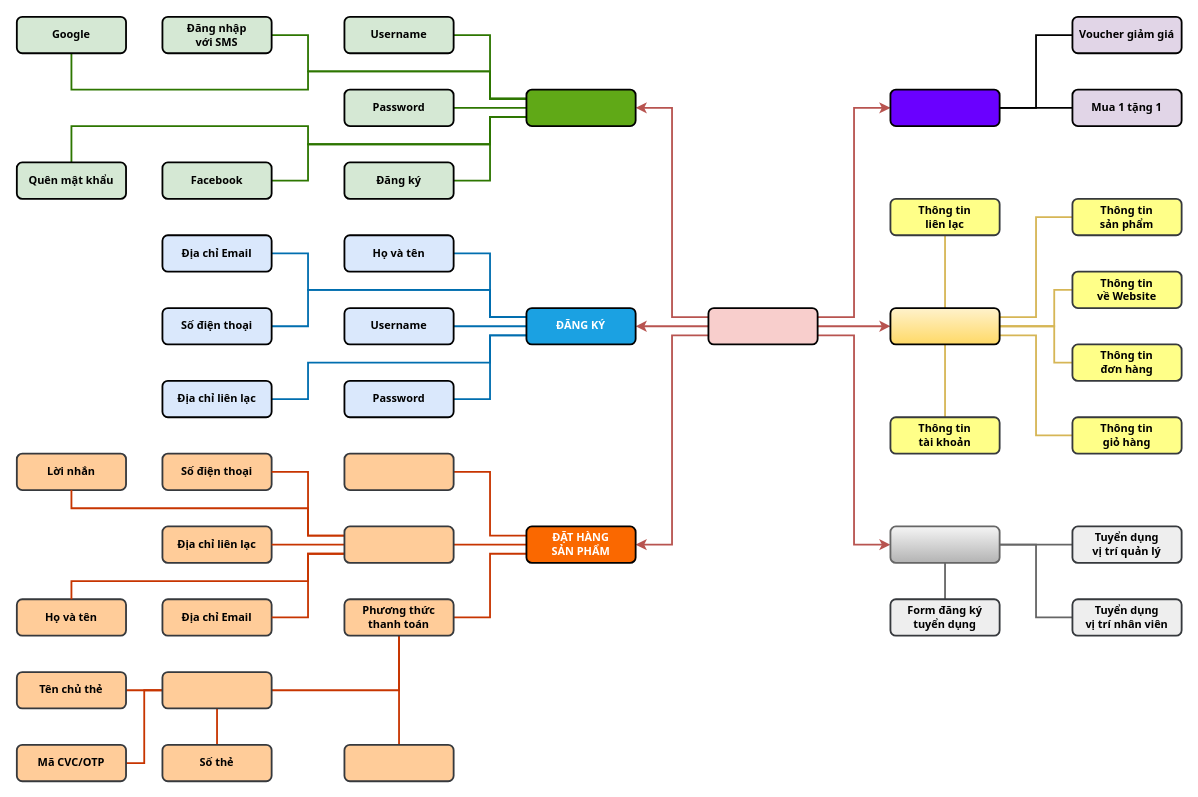
This 1198x797 diagram has some shape labels left out. Here are the shapes that lost their labels. From the top down, the centre of each, then its label:
At point (580, 107): "ĐĂNG NHẬP".
At point (944, 107): "THÔNG TIN KHUYẾN MÃI".
At point (762, 326): "WEBSITE COFFEE".
At point (944, 326): "THÔNG TIN CHI TIẾT".
At point (398, 471): "Lựa chọn sản phẩm".
At point (398, 544): "Thông tin giao hàng".
At point (944, 544): "THÔNG TIN TUYỂN DỤNG".
At point (216, 690): "Thanh toán trực tuyến".
At point (398, 762): "Thanh toán tiền mặt".
